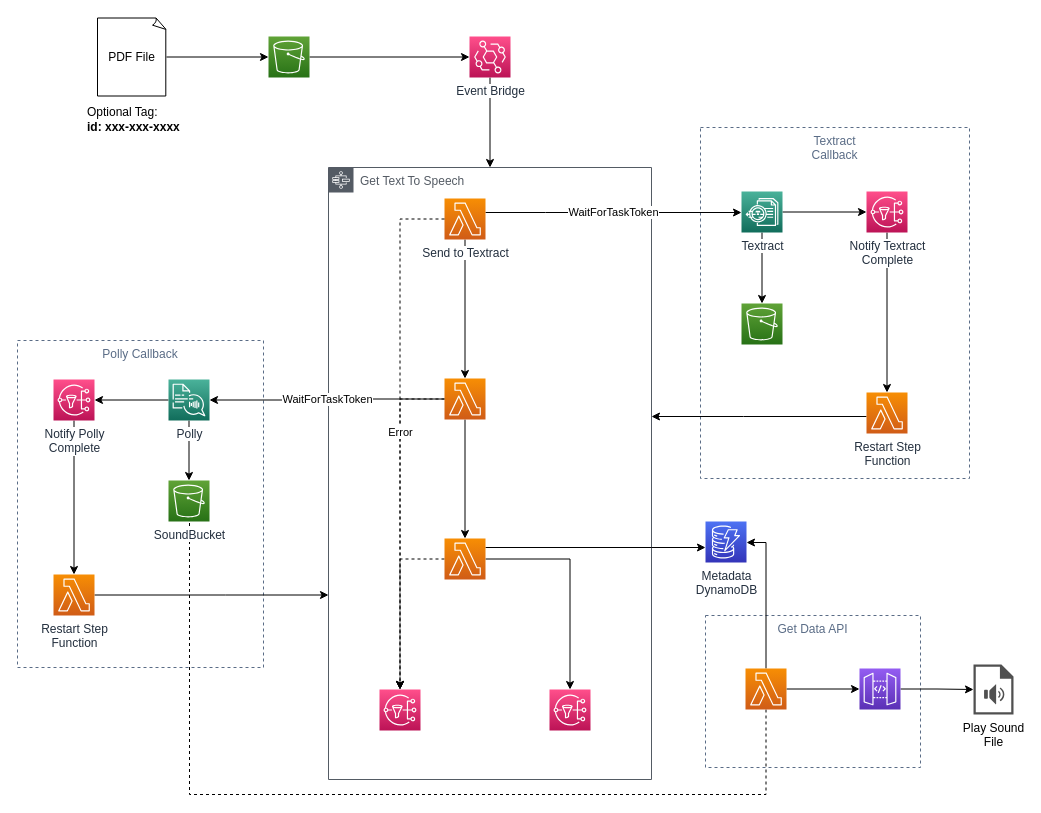
Some shapes in this 1041 by 813 pixel diagram are drawn without their labels. The centre of each missing label's shape, as x and y in pixels:
"Get Presigned URL" belongs at pixel 765 689.
"Get Sound File" belongs at pixel 879 689.
"Output Bucket" belongs at pixel 761 323.
"Publish Failure" belongs at pixel 399 709.
"Publish Results" belongs at pixel 465 559.
"Publish Success" belongs at pixel 569 709.
"Send To Polly" belongs at pixel 465 399.
"Source Bucket" belongs at pixel 289 57.
